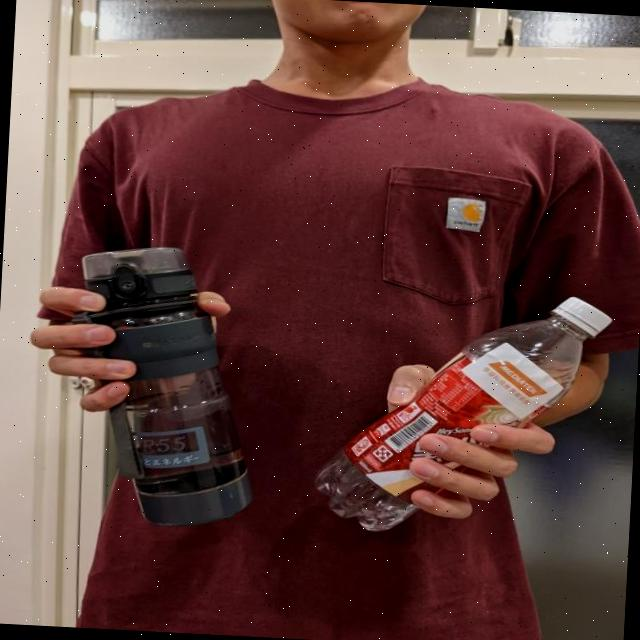bottle: (313, 245, 620, 542)
cap: (548, 290, 615, 340)
label: (347, 324, 565, 492)
